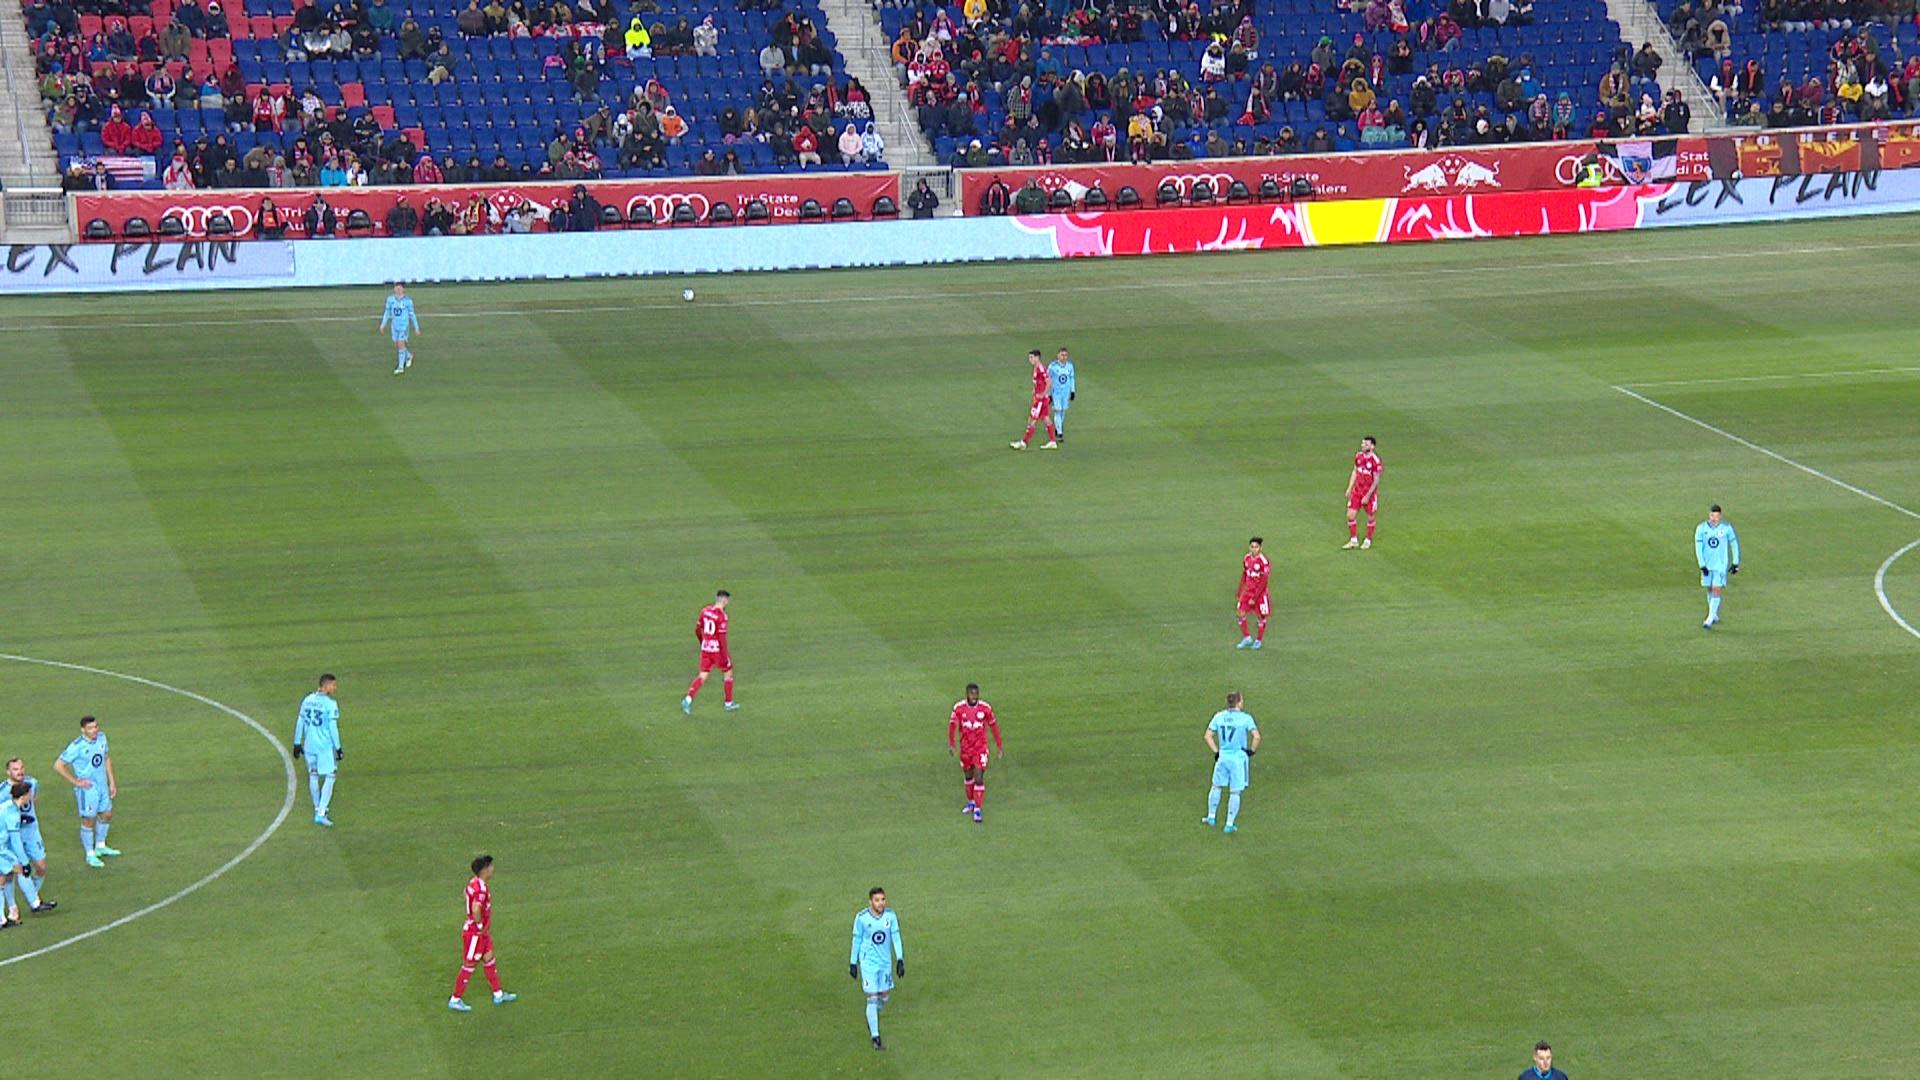football: (683, 287, 696, 302)
